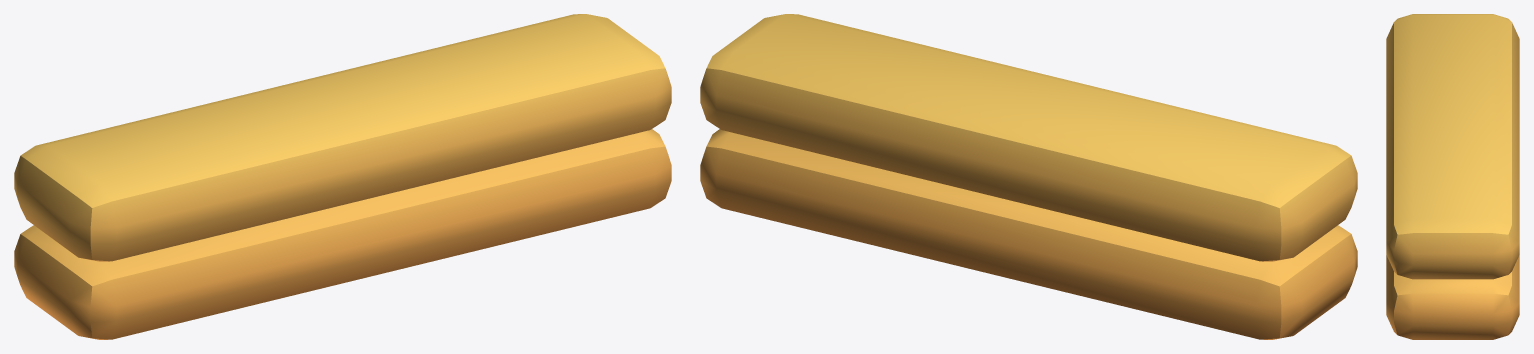
File: barrier_4x1x1_yellow.glb
3 views of the same model, side by side, from view 1: azimuth 30°, elevation 25°; view 2: azimuth 150°, elevation 25°; view 3: azimuth 270°, elevation 25° (orthographic). The views are drawn at different scales.
Visible parts, largest first — view 1: barrier_4x1x1_yellow; view 2: barrier_4x1x1_yellow; view 3: barrier_4x1x1_yellow.
Boxes of the visible parts, x1,y1,x2,y2 form: barrier_4x1x1_yellow: (14, 14, 671, 339); barrier_4x1x1_yellow: (700, 14, 1357, 339); barrier_4x1x1_yellow: (1386, 14, 1519, 339).
Size of the model in its own units: 4 by 1 by 1.
1 material, 1 textured.
